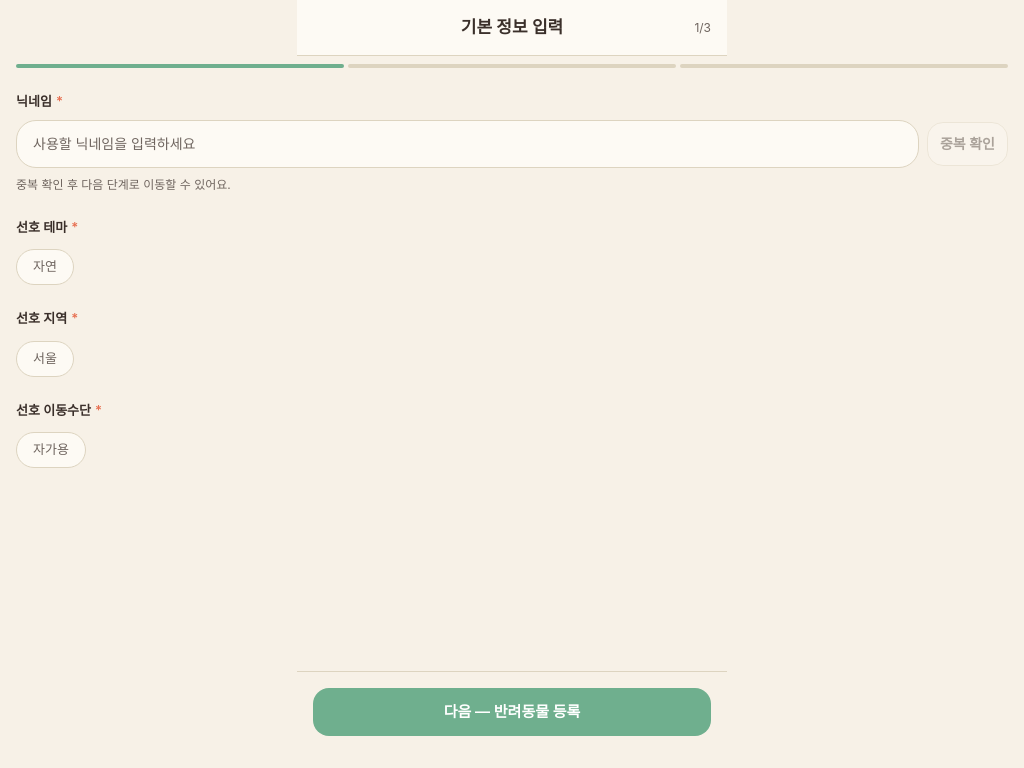
Test: SetupRoute › shows a safe error and blocks progress when nickname checking fails
Step 1. Type "확인실패" into the field with placeholder "사용할 닉네임을 입력하세요" → {"x": 467, "y": 144}, box [16,120,919,168]
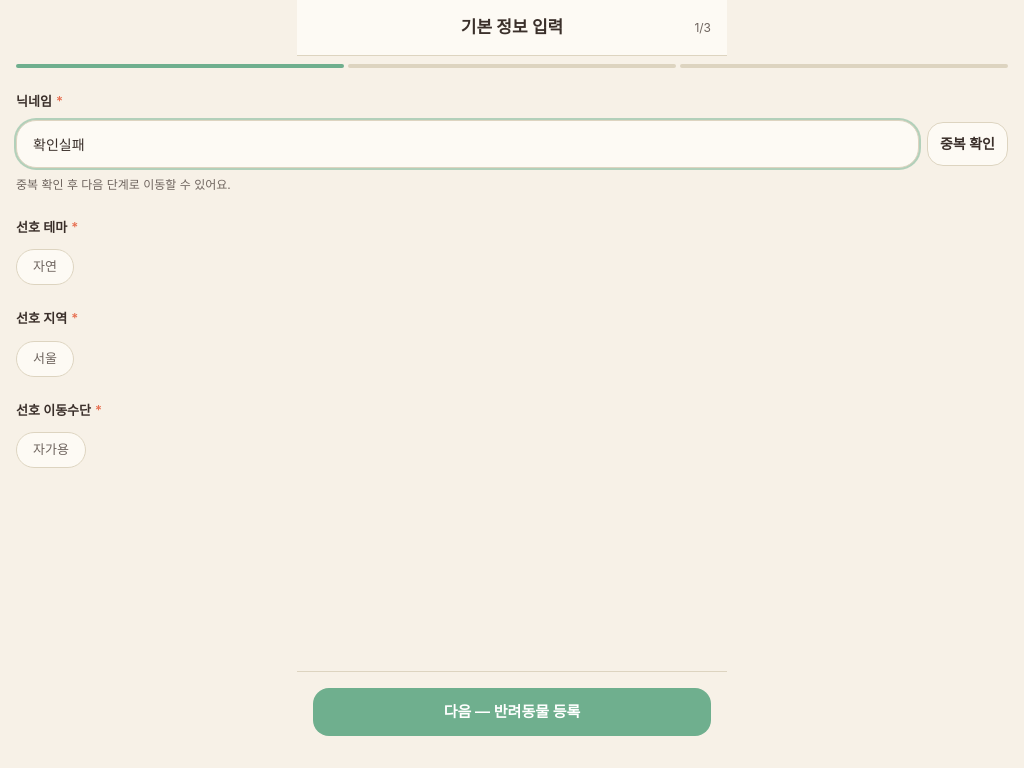
Step 2. Click the button "중복 확인" → {"x": 967, "y": 144}, box [927,122,1008,166]
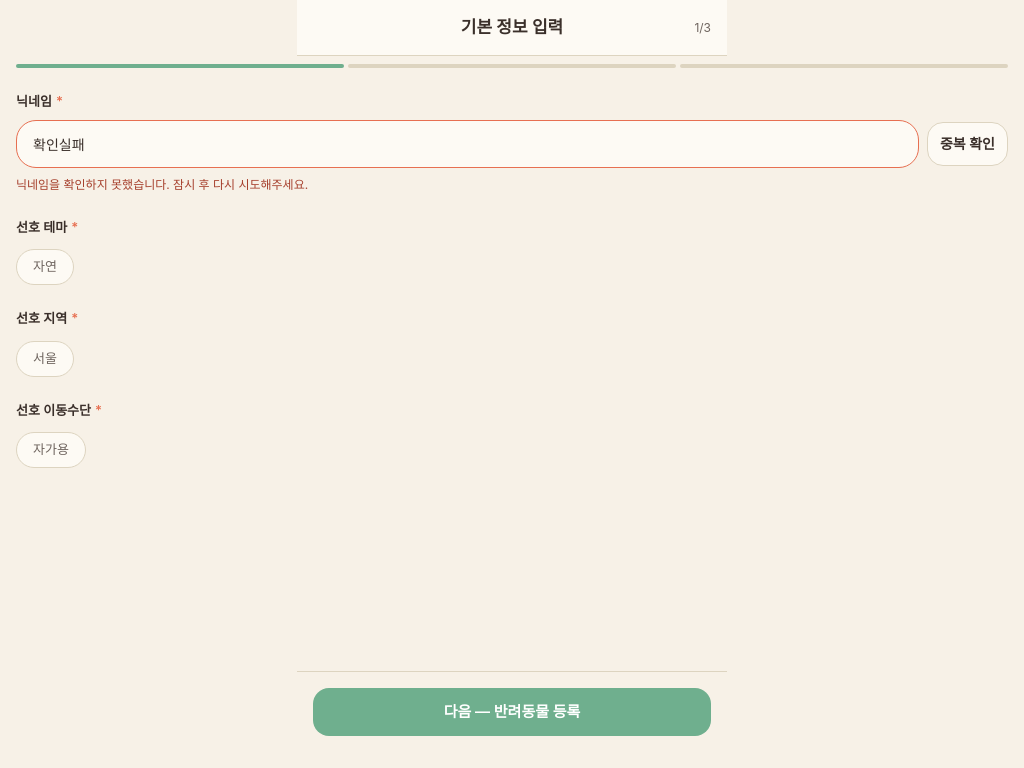
Result: the message shows "닉네임을 확인하지 못했습니다." at [16,176,308,192]
Step 3. Click the button "다음 — 반려동물 등록" → {"x": 512, "y": 712}, box [313,688,711,736]
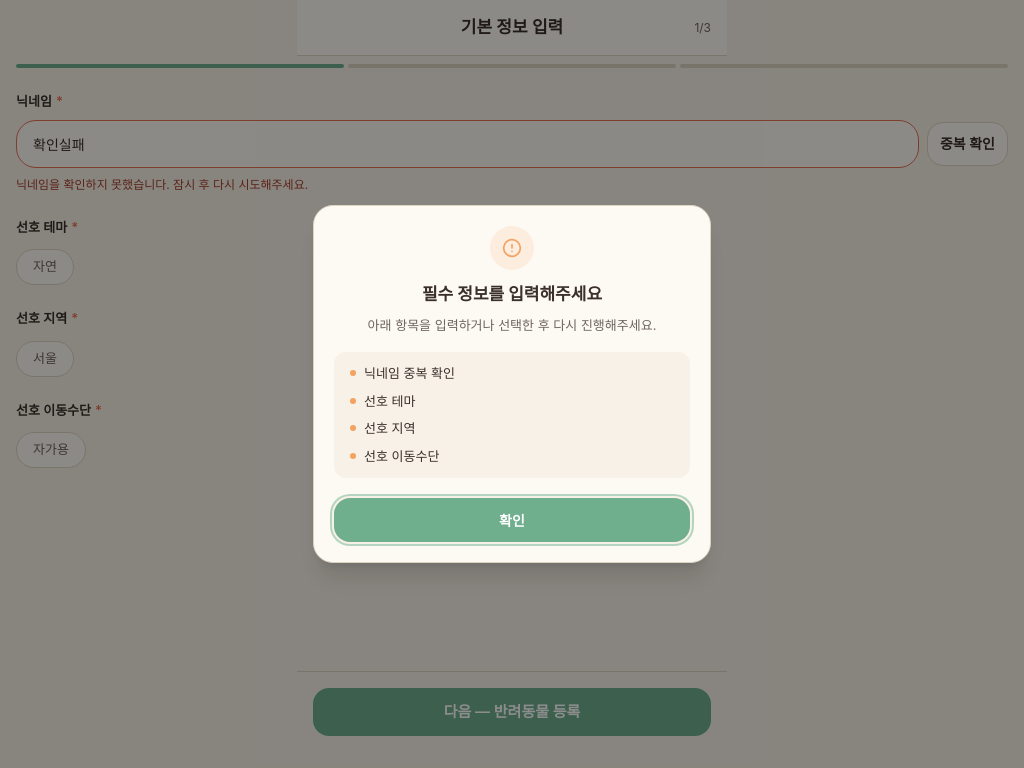
Expected: the heading "기본 정보 입력" is shown, [461,17,563,37]
Result: the dialog shows "닉네임 중복 확인" at [364,365,455,381]
